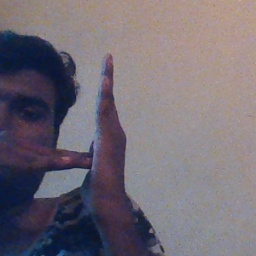Z: (38, 51, 134, 222)
